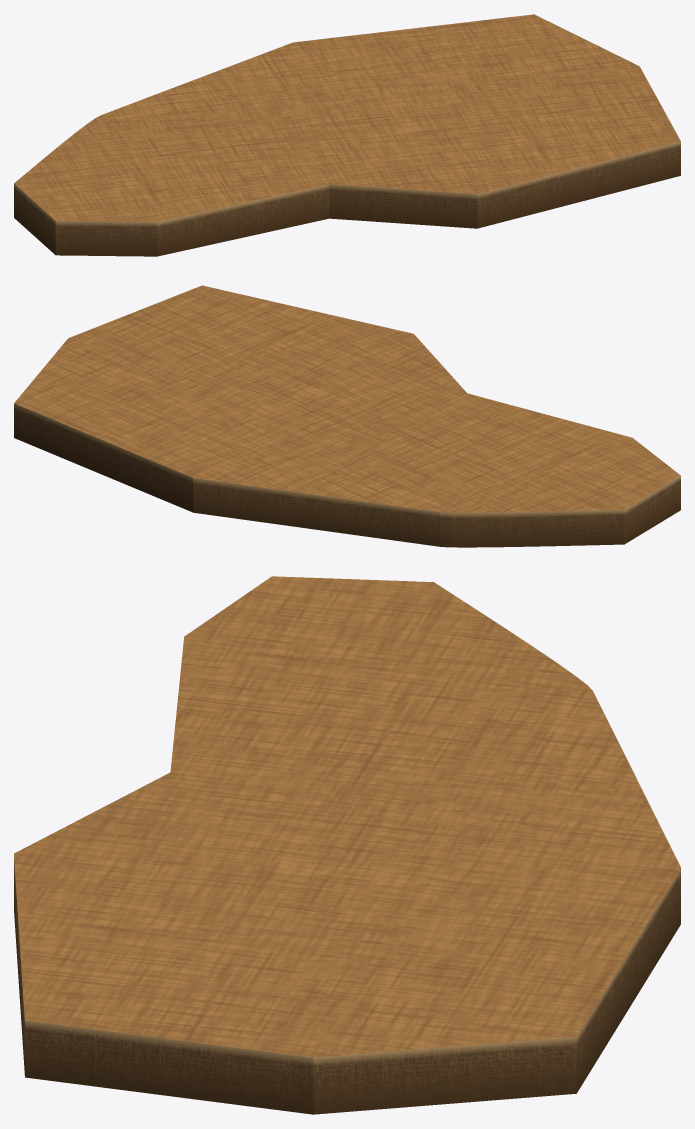
Rendered from Terrain02_B.FBX.
3 renders of one model, top to bottom at view 1: azimuth 30°, elevation 25°; view 2: azimuth 150°, elevation 25°; view 3: azimuth 270°, elevation 25°, orthographic. The views are drawn at different scales.
Parts seen in each view (by area): view 1: Terrain02_B; view 2: Terrain02_B; view 3: Terrain02_B.
Part boxes in pixels (<box>): Terrain02_B: <box>14,14,680,256</box>; Terrain02_B: <box>14,285,680,547</box>; Terrain02_B: <box>14,576,680,1114</box>.
Size of the model in its own units: 917 by 50.55 by 537.
Materials: 1 (1 with a texture image).
